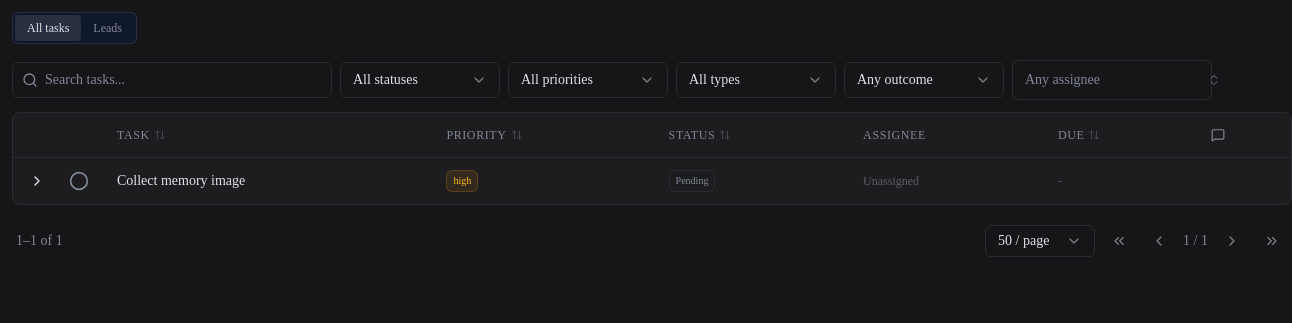
Scenario: TasksTab › Viewer sees tasks but no mutation controls
Expected: the text "Collect memory image" is shown, [117,170,245,190]
Note: Comments are readable, but there is no composer.
Click the button named "Expand row": point(37, 180) [21,164,53,196]
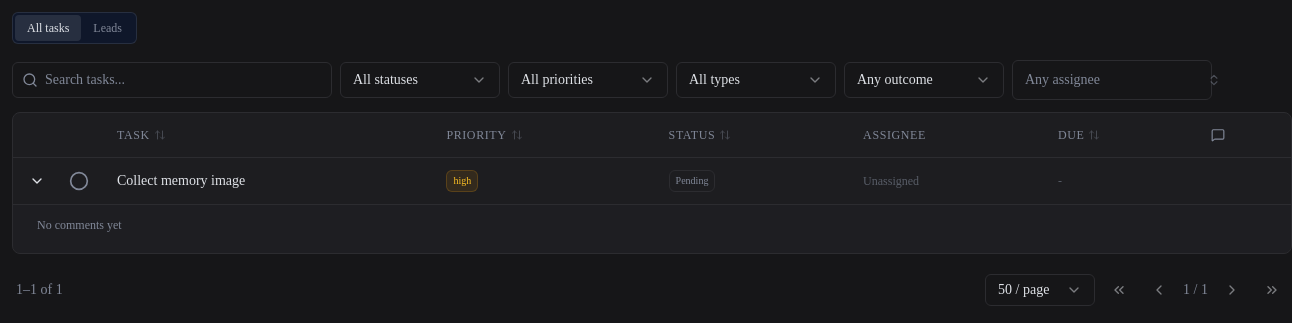
Expected: the text "No comments yet" is shown, [37,218,122,232]
